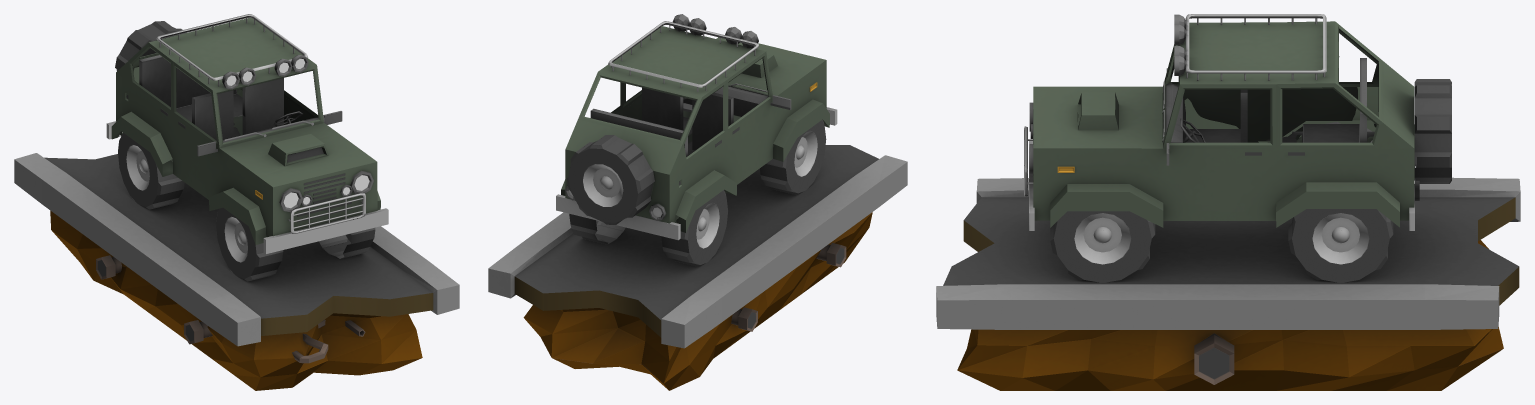
File: car.FBX
3 views of the same model, side by side, from view 1: azimuth 30°, elevation 25°; view 2: azimuth 150°, elevation 25°; view 3: azimuth 270°, elevation 25° (orthographic). The views are drawn at different scales.
Visible parts, largest first — view 1: platform, Box002; view 2: platform, Box002; view 3: platform, Box002.
Part boxes in pixels (x1,y1,x2,y2): platform: (14,153,459,390); Box002: (106,14,388,281); platform: (488,145,907,390); Box002: (556,14,837,266); platform: (936,177,1520,390); Box002: (1024,14,1451,282).
Bounding box in the file's own units: 74.41 × 91.85 × 150.
Materials: 3 (3 with a texture image).
